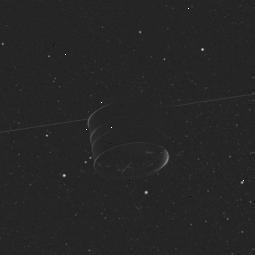double_start: (71, 91, 177, 186)
